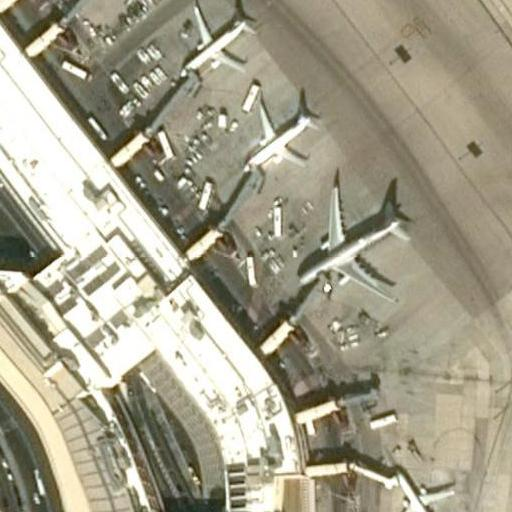Aircraft: (297, 178, 412, 301), (236, 91, 319, 178), (176, 0, 261, 73), (389, 462, 459, 512)
